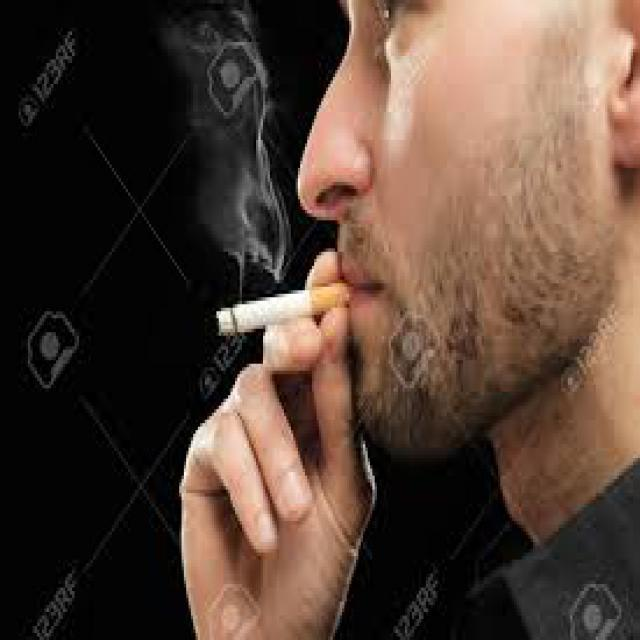smoking: (187, 266, 378, 342)
